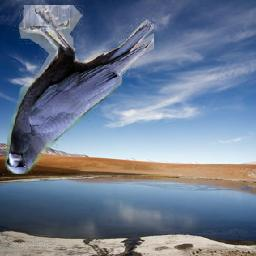Crow: (2, 6, 154, 175)
